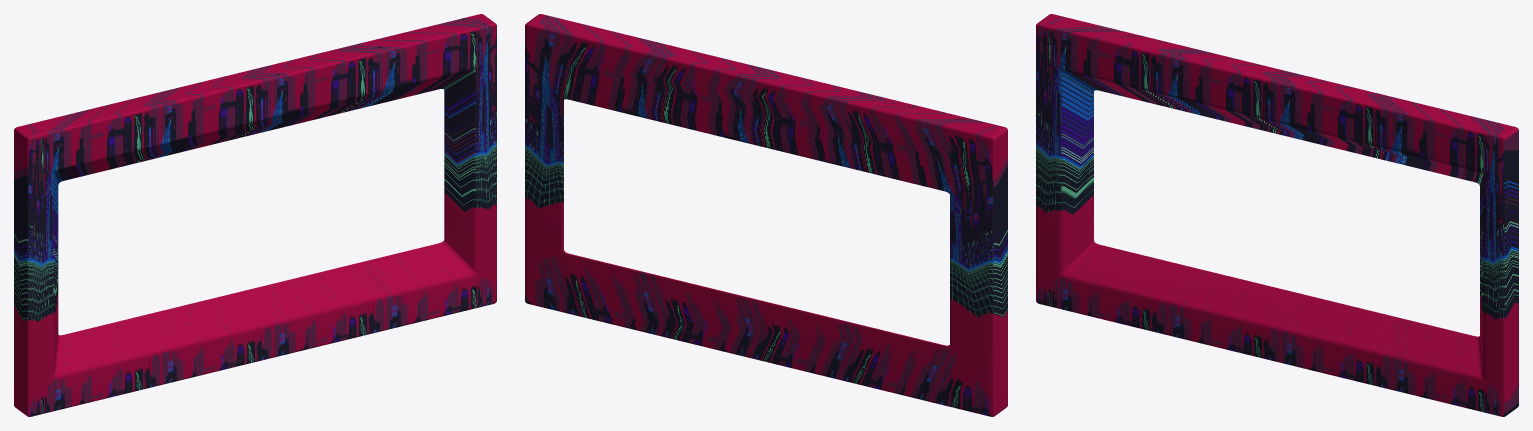
Rendered from frame.glb.
3 views of the same model, side by side, from view 1: azimuth 30°, elevation 25°; view 2: azimuth 150°, elevation 25°; view 3: azimuth 330°, elevation 25° (orthographic).
Parts seen in each view (by area): view 1: Plane; view 2: Plane; view 3: Plane.
Boxes of the visible parts, x1,y1,x2,y2 form: Plane: (14, 14, 496, 416); Plane: (525, 14, 1007, 416); Plane: (1036, 14, 1518, 416).
Bounding box in the file's own units: 4.1 × 2.33 × 0.2244.
1 material, 1 textured.
